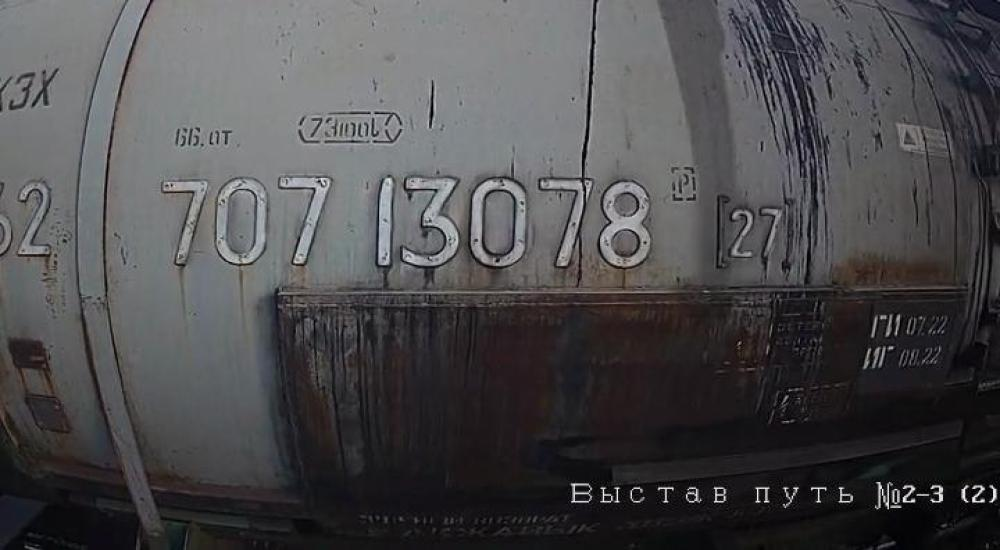Wagon-number: (156, 168, 654, 274)
